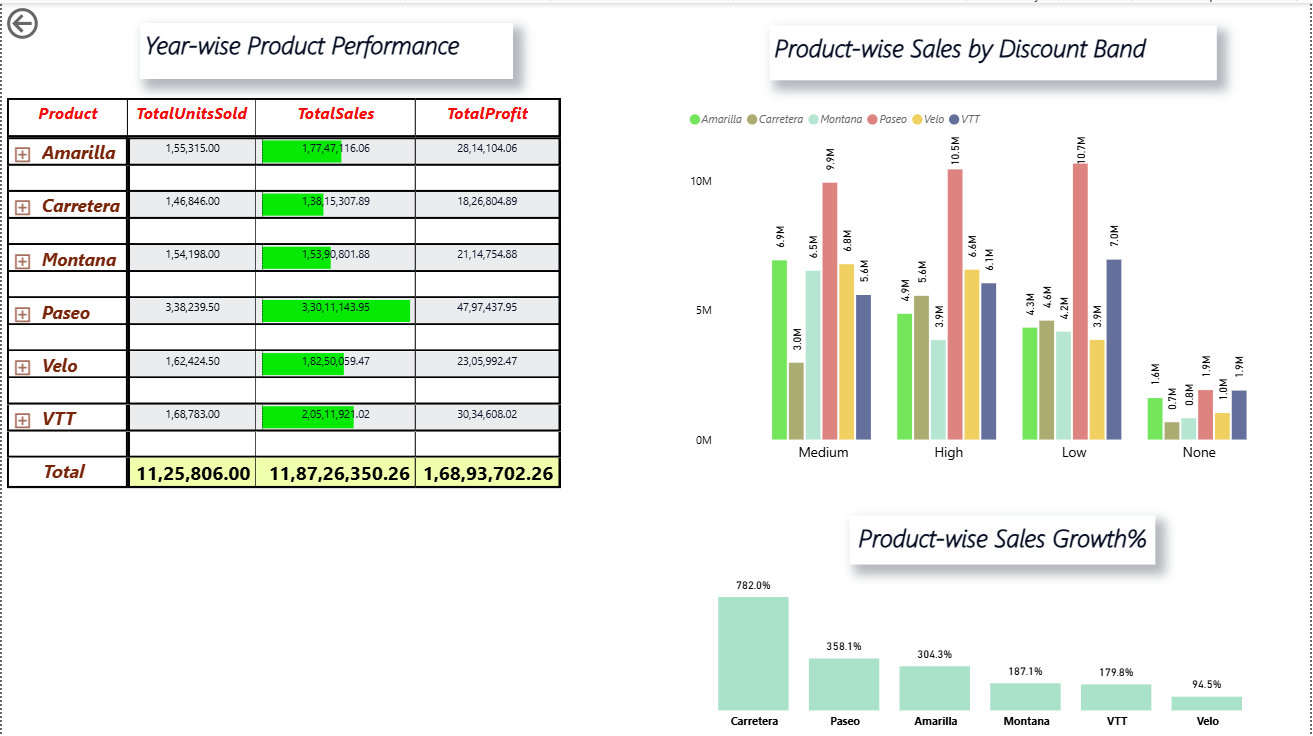

Layout of this report page (visuals, bound fields, positions):
{"tool":"powerbi","page":{"name":"Product Analysis","canvas":[1280,720],"ordinal":1},"visuals":[{"type":"actionButton","box":[0,0,100,40],"z":0},{"type":"clusteredColumnChart","fields":{"Category":["financials.Discount Band"],"Series":["financials.Product"],"Y":["Sum(financials. Sales)"]},"box":[660,87.9,620,376.3],"z":1000},{"type":"pivotTable","title":"Year-wise Product Performance","fields":{"Values":["financials.TotalUnitsSold","financials.TotalSalesF","financials.TotalProfit"],"Rows":["financials.Product","financials.Date.Variation.Date Hierarchy.Year","financials.Date.Variation.Date Hierarchy.Quarter","financials.Date.Variation.Date Hierarchy.Month","financials.Date.Variation.Date Hierarchy.Day"]},"box":[0,87.9,660,576.8],"z":2000},{"type":"textbox","box":[134.2,20,365.5,55.5],"z":3000},{"type":"textbox","box":[751,21.6,438,54],"z":4000},{"type":"clusteredColumnChart","title":"Productwise SalesGrowth%","fields":{"Category":["financials.Product"],"Y":["financials.SalesGrowth %"]},"box":[660.3,549.1,595.5,171.2],"z":5000},{"type":"textbox","box":[100,100,300,300],"z":6000},{"type":"textbox","box":[100,100,300,300],"z":7000},{"type":"textbox","box":[829.1,501.4,299.6,47.7],"z":8000}]}

Visuals, with their boxes in screenshot pixels (x1, y1, x2, y2), scaled from the page's 1280x720 canvas onto the 1313x736 screenshot:
actionButton: (x1=0, y1=0, x2=103, y2=41)
clusteredColumnChart - financials.Discount Band x financials.Product: (x1=677, y1=90, x2=1312, y2=475)
"Year-wise Product Performance" pivotTable: (x1=0, y1=90, x2=677, y2=679)
textbox: (x1=138, y1=20, x2=513, y2=77)
textbox: (x1=770, y1=22, x2=1220, y2=77)
"Productwise SalesGrowth%" clusteredColumnChart: (x1=677, y1=561, x2=1288, y2=735)
textbox: (x1=103, y1=102, x2=410, y2=409)
textbox: (x1=103, y1=102, x2=410, y2=409)
textbox: (x1=850, y1=513, x2=1158, y2=561)
